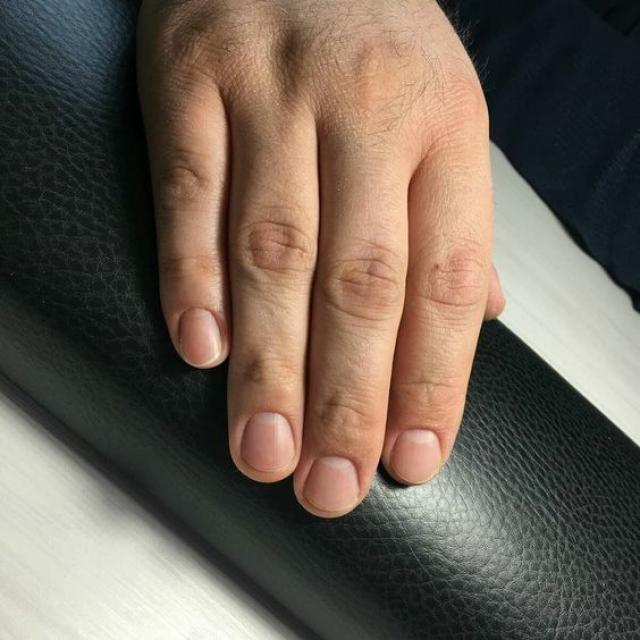Fingernail: (241, 412, 296, 473), (304, 457, 359, 512), (391, 429, 441, 485), (180, 308, 221, 367)
